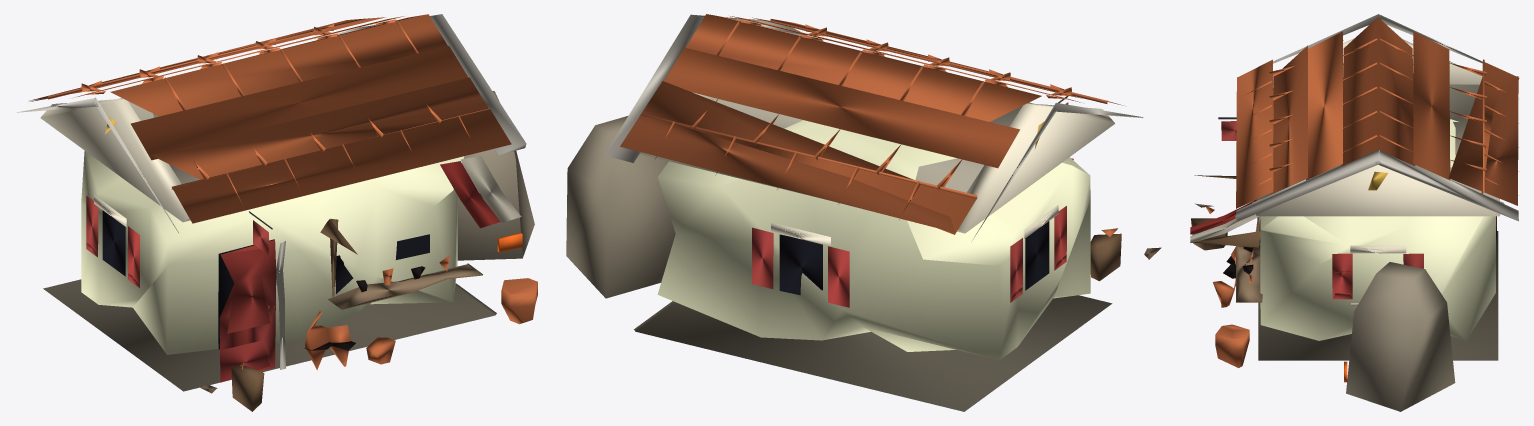
The model's file is biz_pottery_t1.glb.
3 views of the same model, side by side, from view 1: azimuth 30°, elevation 25°; view 2: azimuth 150°, elevation 25°; view 3: azimuth 270°, elevation 25° (orthographic). The views are drawn at different scales.
Visible parts, largest first — view 1: plaster, terracotta0, terracotta2, terracotta1, stone_dark, red_wood, cream, stone, marble, terracotta, dark, wood (+4 smaller); view 2: plaster, terracotta2, stone_dark, terracotta0, terracotta1, stone, cream, red_wood, marble, dark, wood_dark; view 3: plaster, terracotta0, stone, terracotta2, terracotta1, cream, marble, stone_dark, terracotta, red_wood, wood, wood_dark (+3 smaller).
Part boxes in pixels (x1=…): plaster: x1=81, y1=113, x2=464, y2=354; terracotta0: x1=29, y1=14, x2=511, y2=223; terracotta2: x1=47, y1=16, x2=489, y2=208; terracotta1: x1=30, y1=17, x2=488, y2=179; stone_dark: x1=43, y1=279, x2=496, y2=391; red_wood: x1=86, y1=195, x2=276, y2=382; cream: x1=40, y1=34, x2=340, y2=227; stone: x1=457, y1=91, x2=534, y2=260; marble: x1=16, y1=14, x2=526, y2=369; terracotta: x1=240, y1=255, x2=537, y2=370; dark: x1=102, y1=210, x2=429, y2=349; wood: x1=200, y1=263, x2=482, y2=393; plaster: x1=657, y1=120, x2=1090, y2=360; terracotta2: x1=640, y1=16, x2=1107, y2=219; stone_dark: x1=634, y1=295, x2=1112, y2=411; terracotta0: x1=675, y1=14, x2=1124, y2=234; terracotta1: x1=620, y1=17, x2=1082, y2=232; stone: x1=566, y1=115, x2=675, y2=298; cream: x1=639, y1=35, x2=1114, y2=246; red_wood: x1=752, y1=102, x2=1073, y2=307; marble: x1=604, y1=14, x2=1143, y2=240; dark: x1=779, y1=221, x2=1049, y2=295; wood_dark: x1=1090, y1=233, x2=1121, y2=281; plaster: x1=1260, y1=119, x2=1495, y2=340; terracotta0: x1=1236, y1=17, x2=1519, y2=208; stone: x1=1346, y1=262, x2=1455, y2=411; terracotta2: x1=1238, y1=31, x2=1518, y2=193; terracotta1: x1=1271, y1=45, x2=1518, y2=205; cream: x1=1252, y1=38, x2=1504, y2=305; marble: x1=1235, y1=14, x2=1518, y2=231; stone_dark: x1=1258, y1=231, x2=1498, y2=360; terracotta: x1=1205, y1=205, x2=1253, y2=367; red_wood: x1=1221, y1=121, x2=1496, y2=299; wood: x1=1195, y1=203, x2=1262, y2=302; wood_dark: x1=1191, y1=175, x2=1260, y2=250.
Size of the model in its own units: 7.93 by 4.22 by 5.87.
